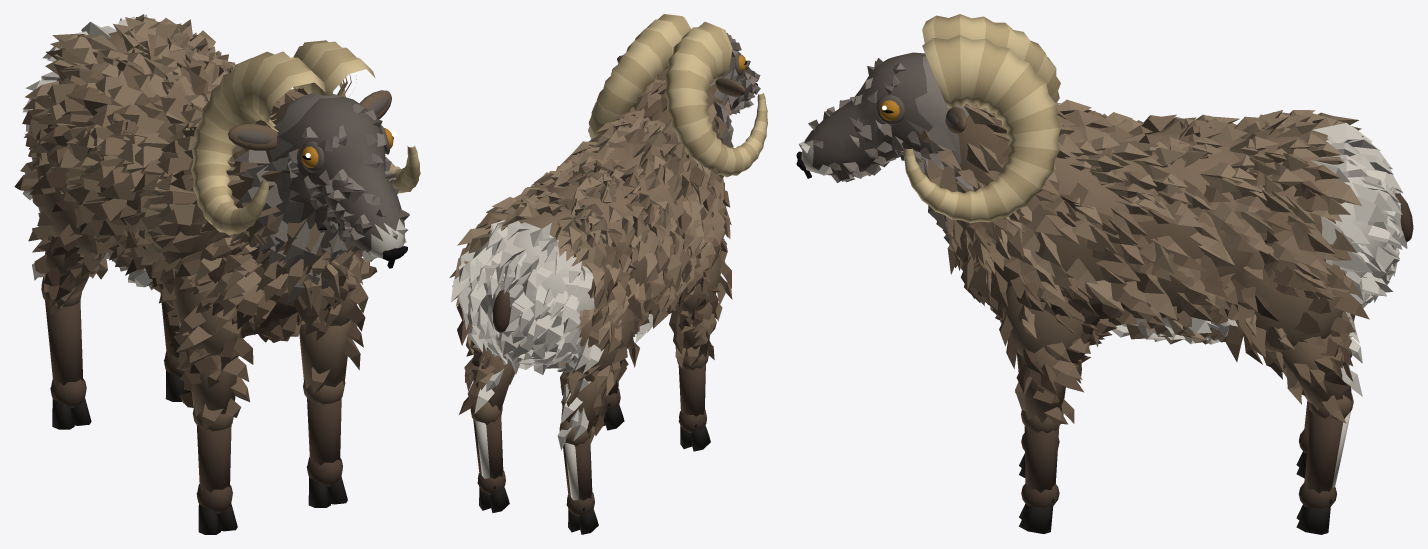
The model's file is ram.glb.
The picture shows the model from 3 angles, left to right: view 1: azimuth 30°, elevation 25°; view 2: azimuth 150°, elevation 25°; view 3: azimuth 270°, elevation 25°; orthographic projection. The views are drawn at different scales.
Visible parts, largest first — view 1: body, head, leg_FR, leg_BR, leg_FL, shin_BR, shin_FR, shin_FL, shin_BL, ear_R, ear_L; view 2: body, head, leg_BR, leg_FR, leg_BL, shin_BL, shin_BR, shin_FR, shin_FL, tail, ear_R; view 3: body, head, leg_BL, leg_FL, shin_BL, shin_FL.
Boxes of the visible parts, box(x1,y1,x2,y2) form: body: box(20, 14, 363, 342); head: box(191, 40, 420, 303); leg_FR: box(159, 268, 253, 431); leg_BR: box(14, 125, 107, 314); leg_FL: box(299, 250, 377, 404); shin_BR: box(45, 297, 91, 429); shin_FR: box(196, 425, 237, 534); shin_FL: box(306, 398, 347, 507); shin_BL: box(160, 293, 191, 401); ear_R: box(228, 123, 277, 150); ear_L: box(359, 90, 391, 119); body: box(451, 108, 731, 374); head: box(588, 14, 767, 198); leg_BR: box(557, 265, 642, 450); leg_FR: box(666, 238, 732, 369); leg_BL: box(449, 269, 515, 425); shin_BL: box(473, 414, 509, 513); shin_BR: box(563, 436, 598, 534); shin_FR: box(678, 364, 710, 451); shin_FL: box(596, 380, 624, 430); tail: box(492, 290, 511, 332); ear_R: box(715, 78, 745, 96); body: box(947, 99, 1407, 345); head: box(796, 14, 1066, 279); leg_BL: box(1220, 224, 1369, 423); leg_FL: box(999, 285, 1099, 433); shin_BL: box(1296, 411, 1351, 534); shin_FL: box(1019, 426, 1059, 533).
Size of the model in its own units: 0.6704 by 1.42 by 1.67.
